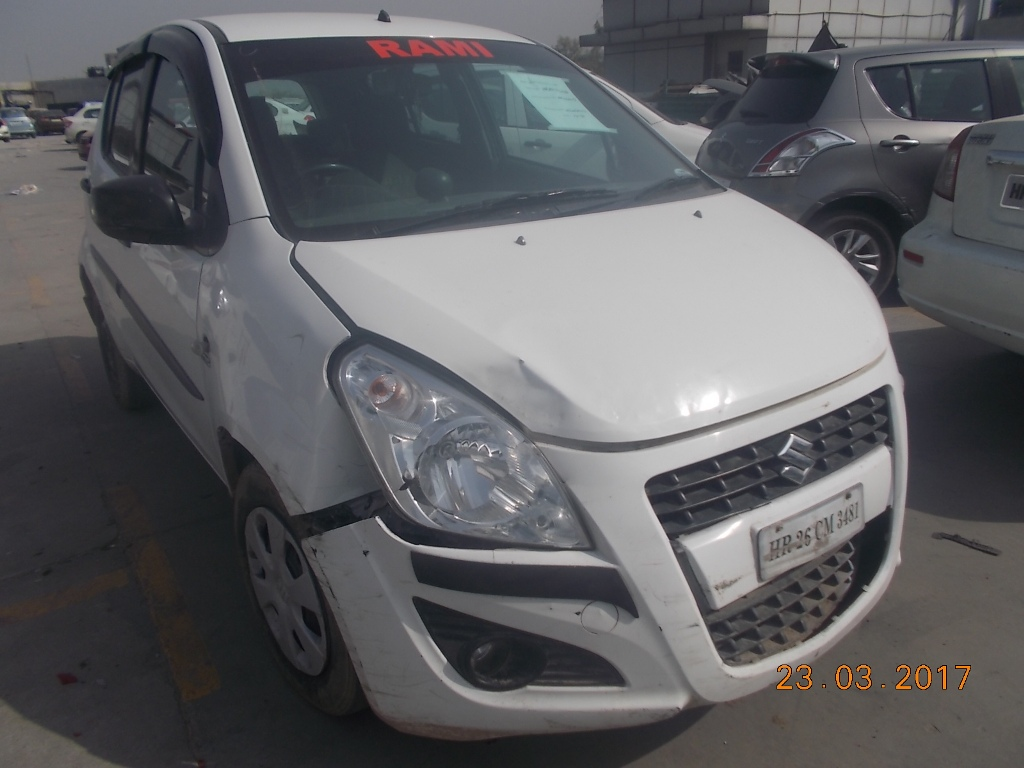Dent: (504, 359, 576, 416)
Dislocation: (281, 479, 390, 563)
